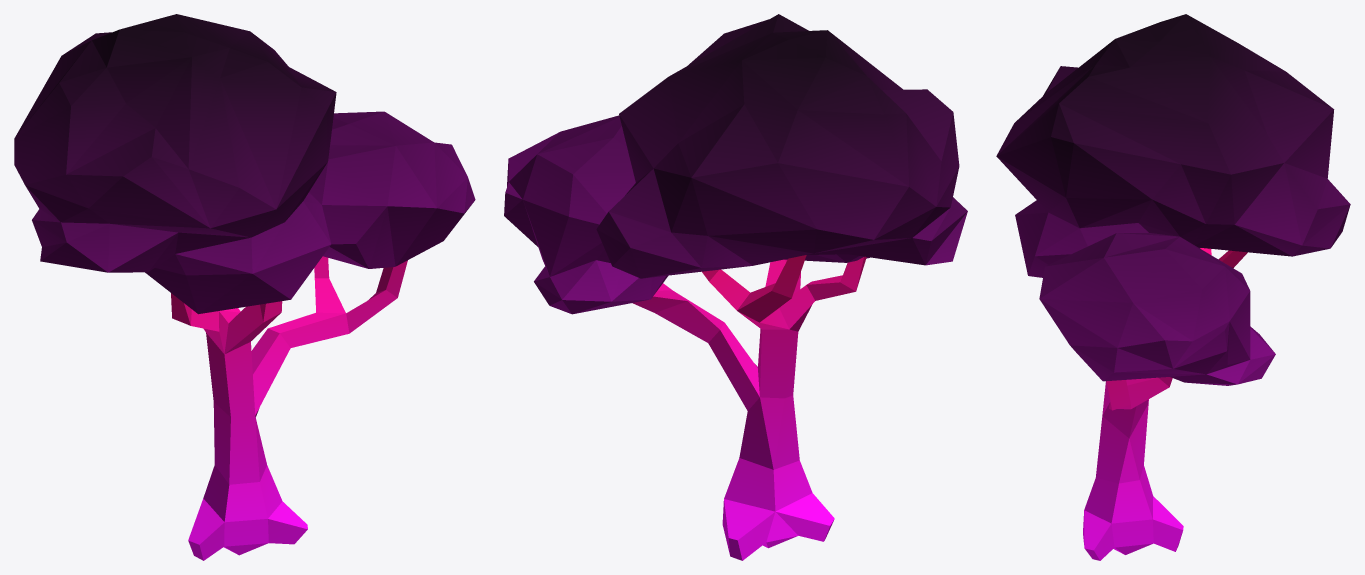
Rendered from SM_Env_Tree_Apricot_01_duel_mat.fbx.
The picture shows the model from 3 angles, left to right: view 1: azimuth 30°, elevation 25°; view 2: azimuth 150°, elevation 25°; view 3: azimuth 270°, elevation 25°; orthographic projection. The views are drawn at different scales.
Parts seen in each view (by area): view 1: SM_Env_Tree_Apricot_01; view 2: SM_Env_Tree_Apricot_01; view 3: SM_Env_Tree_Apricot_01.
Part boxes in pixels (x1,y1,x2,y2): SM_Env_Tree_Apricot_01: (14,14,475,560); SM_Env_Tree_Apricot_01: (504,14,967,560); SM_Env_Tree_Apricot_01: (996,14,1350,560).
Bounding box in the file's own units: 411 × 487 × 312.
